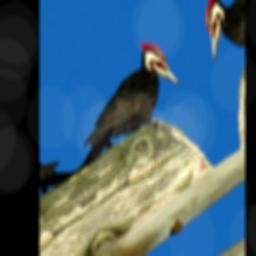Woodpecker: (54, 25, 190, 185)
